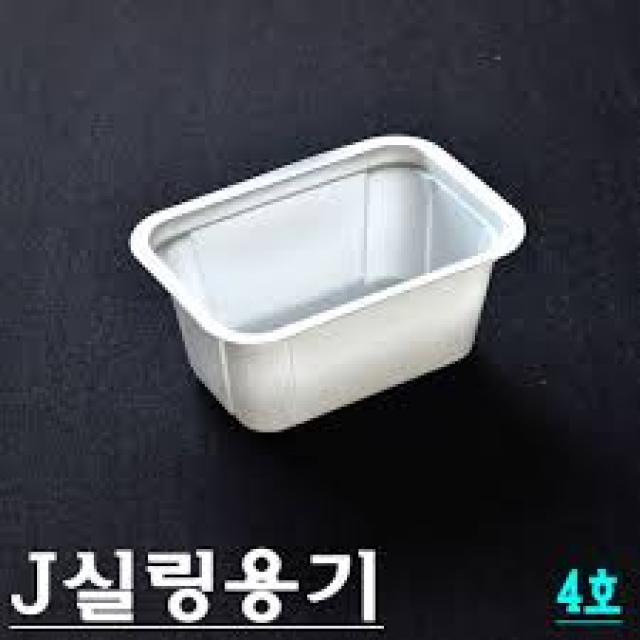disposable: (121, 130, 538, 438)
